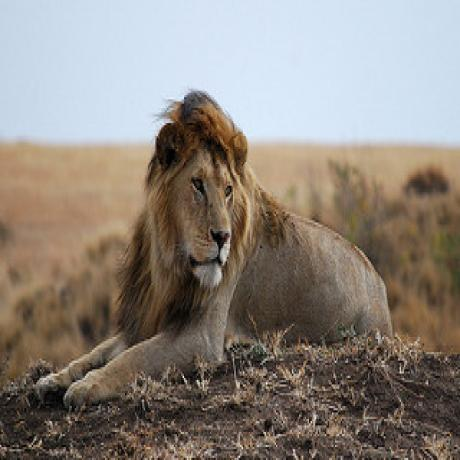Lion: (43, 91, 398, 404)
